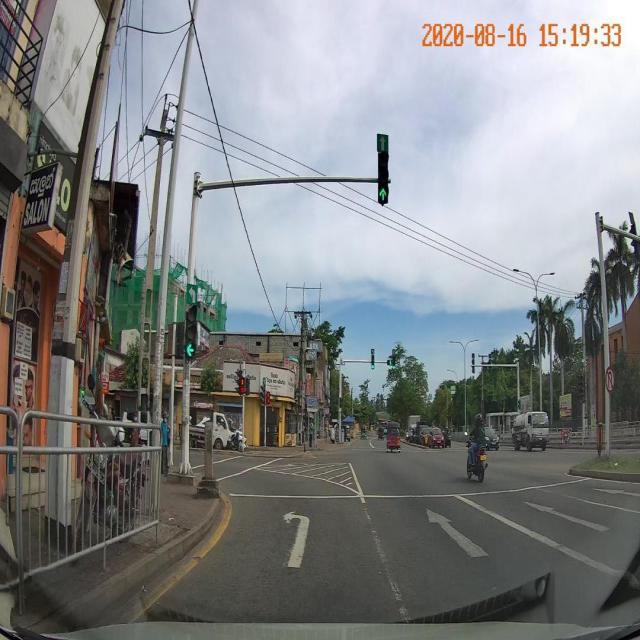Liniya 1: (92, 503, 239, 626), (451, 496, 640, 591), (358, 499, 420, 623), (548, 489, 640, 520)
Liniya 2: (228, 475, 609, 503)
Strelka vlevo: (281, 510, 311, 569)
Strelka vpered: (425, 506, 490, 559), (521, 500, 611, 534), (589, 489, 640, 498)
